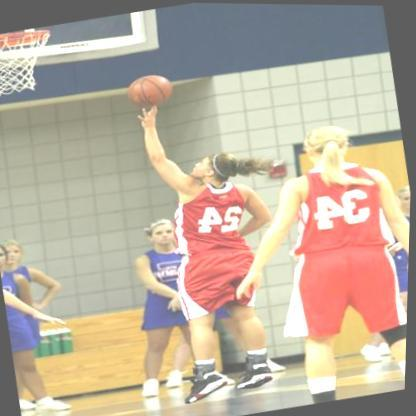basketball: (122, 69, 178, 110)
rim: (0, 24, 51, 53)
